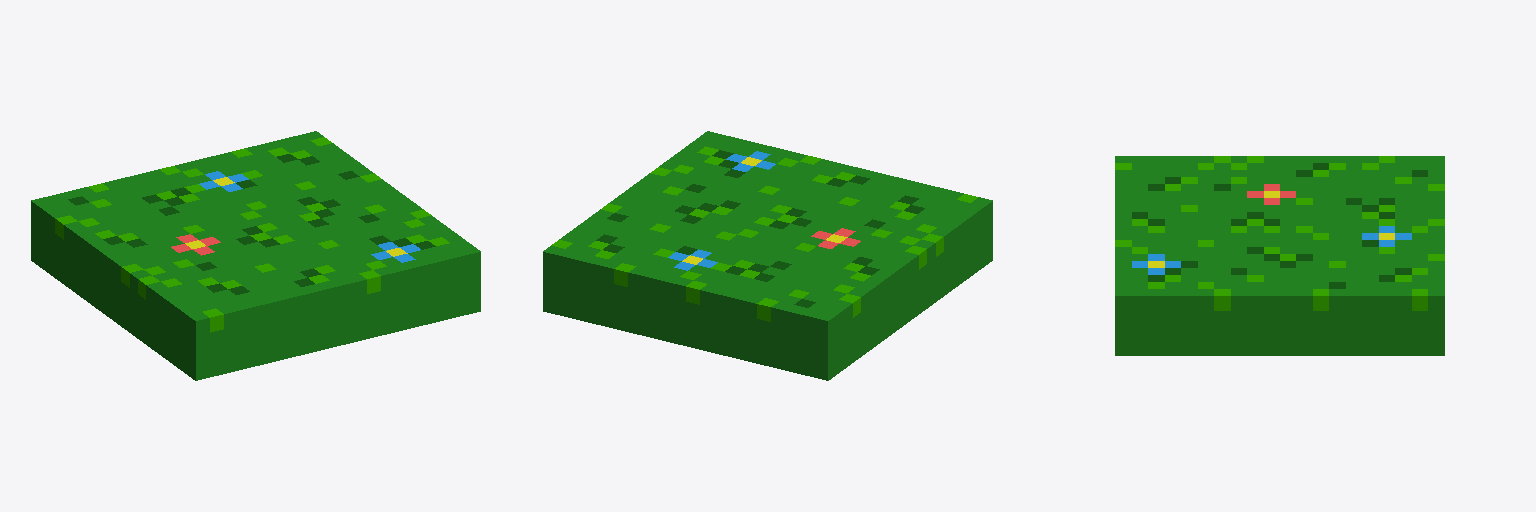
3 views of the same model, side by side, from view 1: azimuth 30°, elevation 25°; view 2: azimuth 150°, elevation 25°; view 3: azimuth 270°, elevation 25° (orthographic).
Bounding box in the file's own units: 20 × 4 × 20.
Materials: 1 (1 with a texture image).